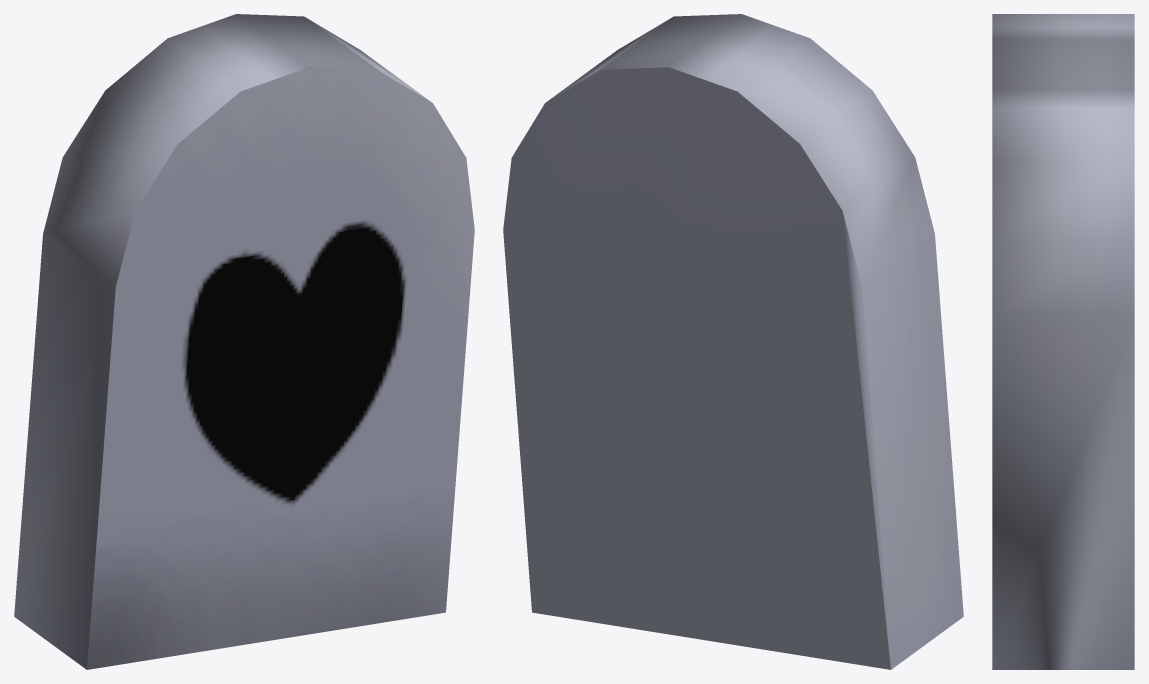
File: grave1.obj
3 views of the same model, side by side, from view 1: azimuth 30°, elevation 25°; view 2: azimuth 150°, elevation 25°; view 3: azimuth 270°, elevation 25° (orthographic). The views are drawn at different scales.
Visible parts, largest first — view 1: grave1_comp:grave1_obj; view 2: grave1_comp:grave1_obj; view 3: grave1_comp:grave1_obj.
Part boxes in pixels (bbox=[...]): grave1_comp:grave1_obj: bbox=[14, 14, 474, 669]; grave1_comp:grave1_obj: bbox=[503, 14, 963, 669]; grave1_comp:grave1_obj: bbox=[992, 14, 1134, 669].
Size of the model in its own units: 24.13 by 34.41 by 7.84.
